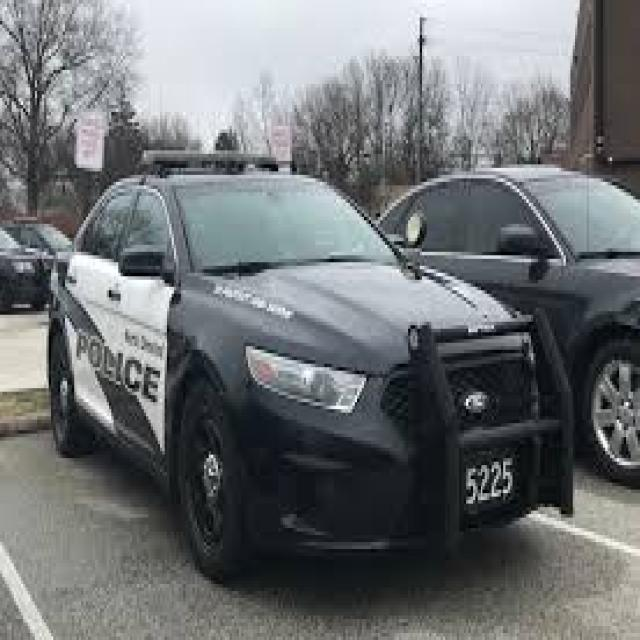cop: (46, 144, 582, 584)
